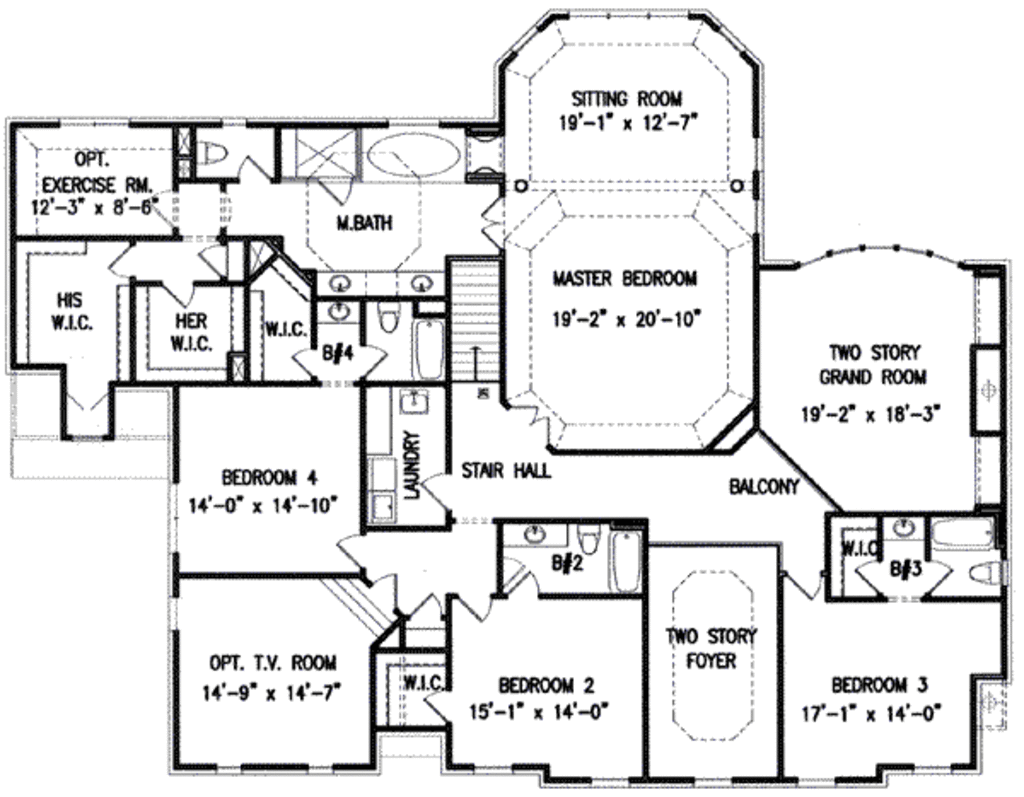door: (478, 188, 506, 260), (234, 146, 276, 189), (420, 465, 456, 515), (106, 243, 147, 281), (193, 246, 234, 284), (367, 570, 404, 611), (453, 586, 490, 624), (781, 571, 826, 602), (277, 344, 313, 382), (321, 175, 357, 212), (406, 583, 445, 616), (336, 527, 366, 569), (856, 555, 886, 597), (924, 556, 956, 593), (357, 337, 384, 379), (159, 281, 196, 307), (498, 552, 525, 583)
large_sink: (506, 402, 560, 451), (188, 131, 229, 171), (373, 301, 404, 341), (966, 559, 1006, 586)
small_sink: (312, 265, 449, 299)
stairs: (450, 258, 501, 398)
tub: (357, 125, 467, 188), (604, 528, 648, 596), (925, 515, 1003, 552), (413, 320, 456, 383)
windows: (788, 237, 961, 276), (559, 1, 698, 24), (165, 478, 189, 564), (58, 108, 128, 133), (160, 590, 185, 632)
